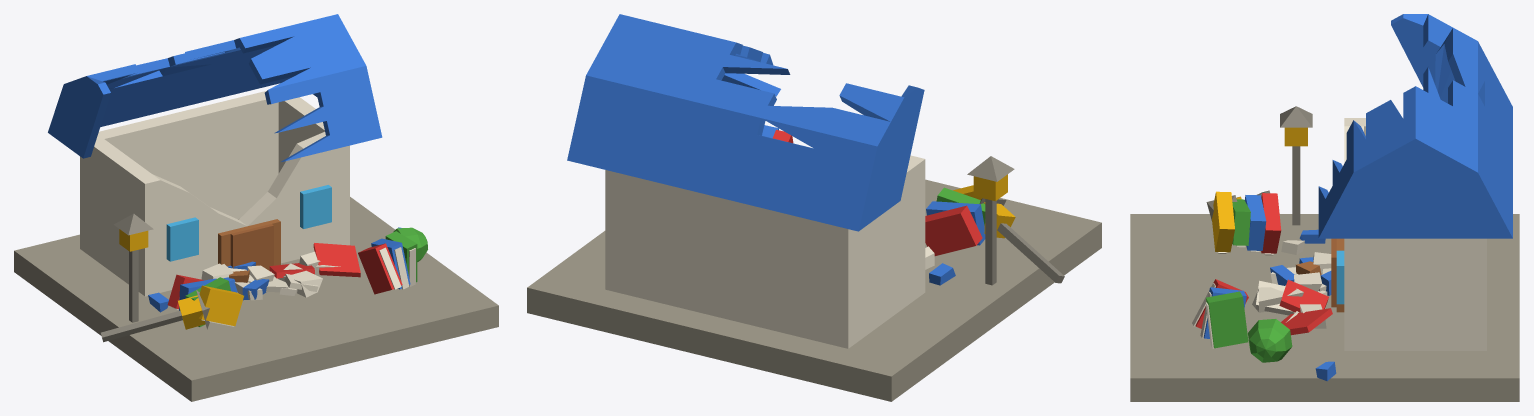
Rendered from library_t1_v3_dmg1.glb.
3 views of the same model, side by side, from view 1: azimuth 30°, elevation 25°; view 2: azimuth 150°, elevation 25°; view 3: azimuth 270°, elevation 25° (orthographic). The views are drawn at different scales.
Visible parts, largest first — view 1: library_t1_v3_dmg1; view 2: library_t1_v3_dmg1; view 3: library_t1_v3_dmg1.
Part boxes in pixels (x1,y1,x2,y2): library_t1_v3_dmg1: (14,14,498,401); library_t1_v3_dmg1: (527,14,1101,401); library_t1_v3_dmg1: (1130,14,1519,401).
Size of the model in its own units: 0.6686 by 0.42 by 0.6.
Materials: 1 (1 with a texture image).
